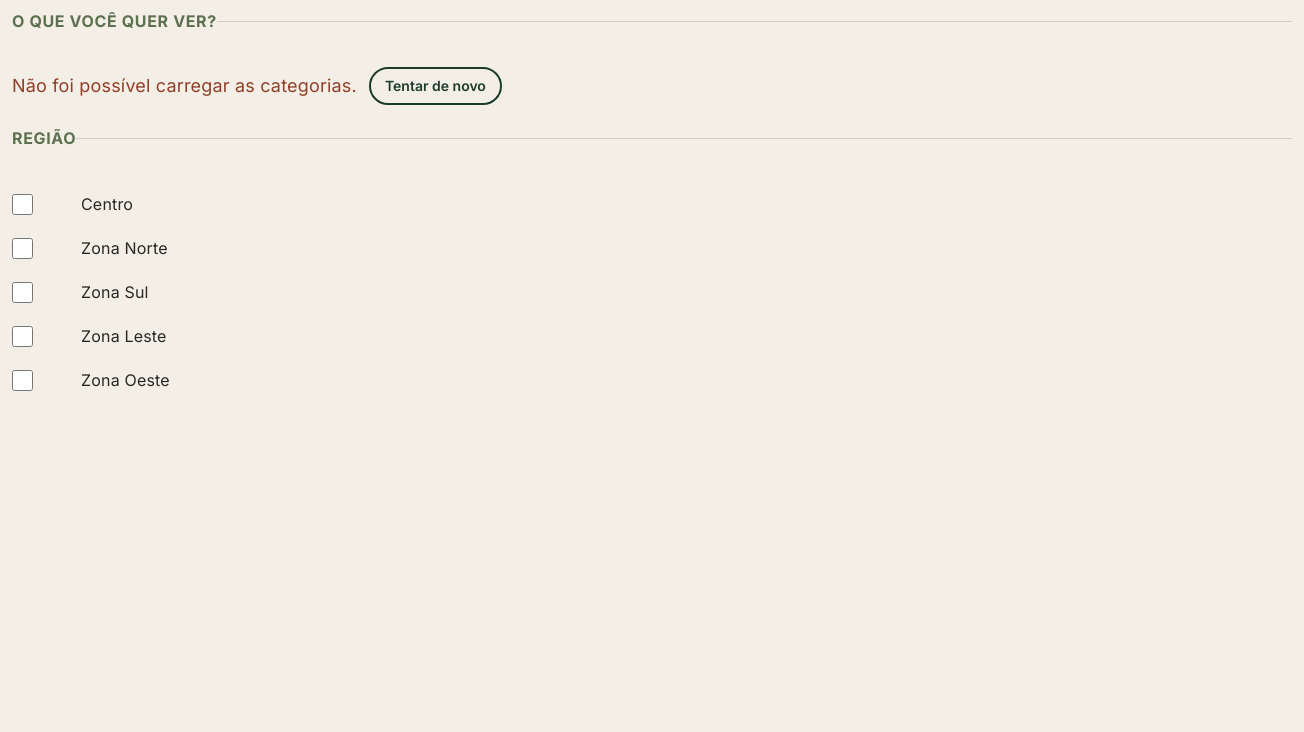
Scenario: FilterPanel › mostra o erro das categorias e tenta de novo
The width and height of the screenshot is (1304, 732).
Click the button "Tentar de novo": (435,86) top-left (369, 67), bottom-right (502, 105)
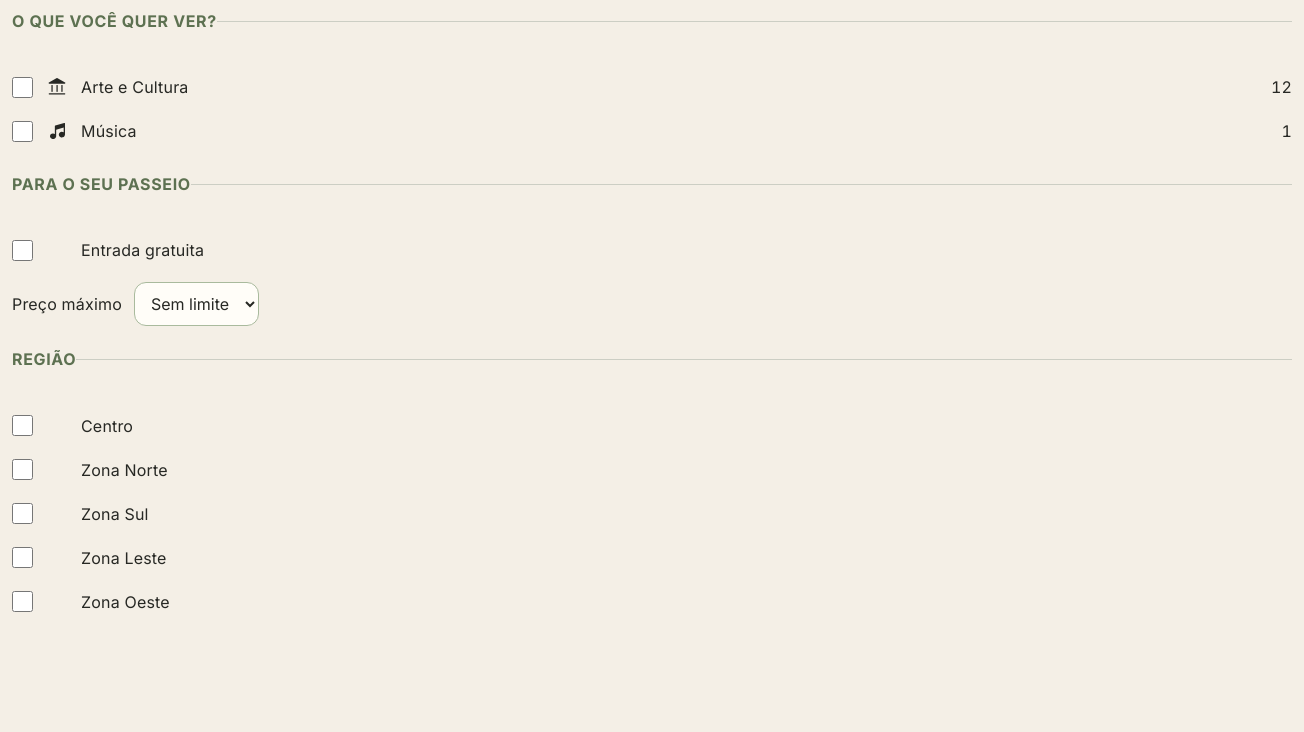
Expected: the checkbox labelled "Arte e Cultura 12" is shown, top-left (12, 77), bottom-right (33, 98)
